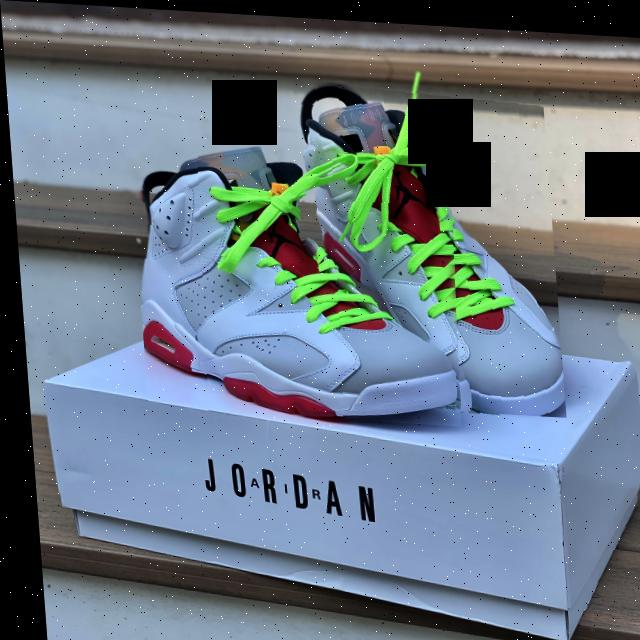shoe: (127, 138, 463, 423), (280, 76, 560, 411)
